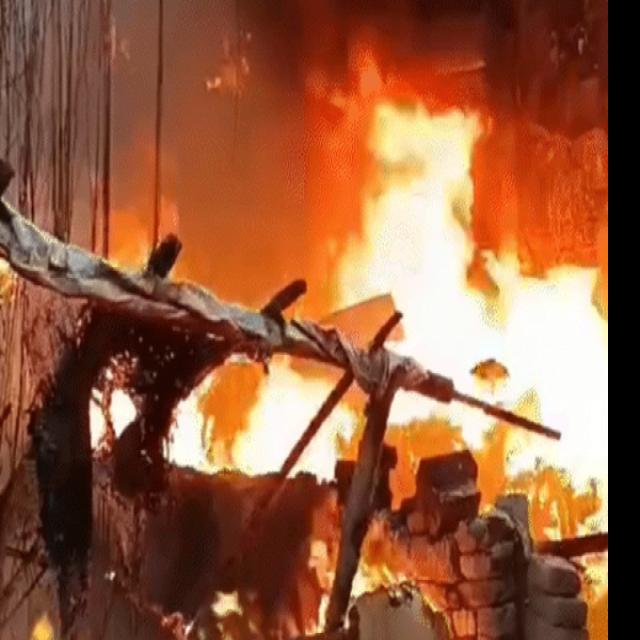fire: (485, 245, 640, 640), (338, 251, 485, 449), (163, 353, 337, 485), (364, 100, 481, 252), (345, 516, 439, 631), (90, 386, 137, 449), (308, 542, 336, 592)
